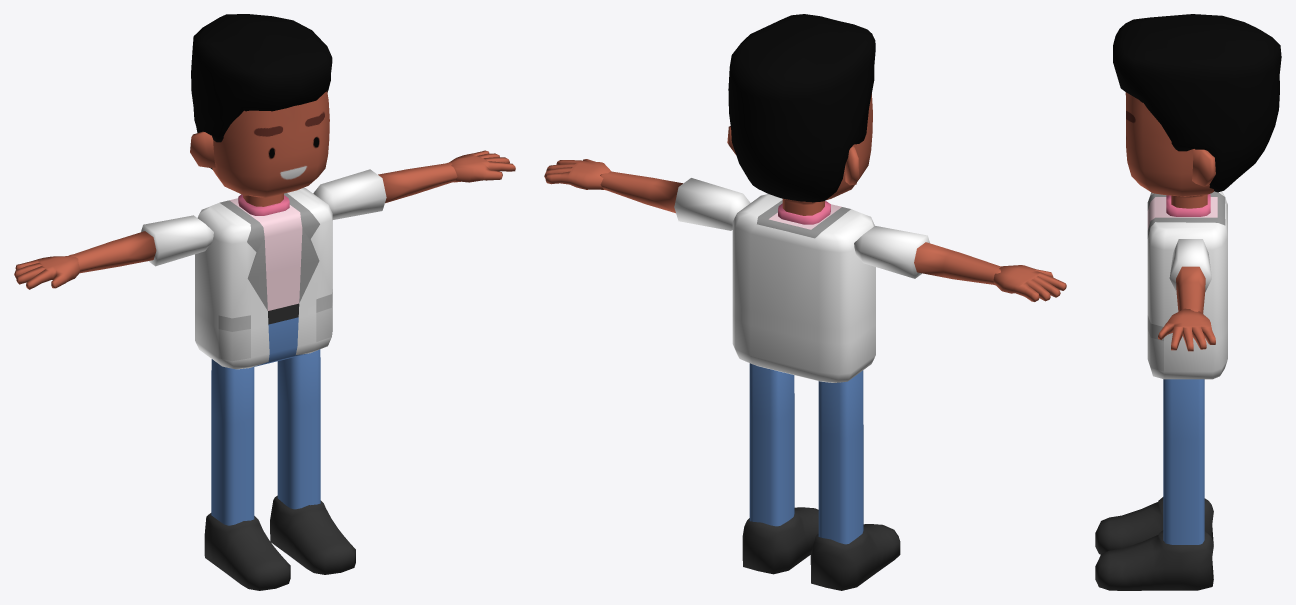
Rendered from NPC_Black02_BlackHair06.gltf.
3 renders of one model, left to right at view 1: azimuth 30°, elevation 25°; view 2: azimuth 150°, elevation 25°; view 3: azimuth 270°, elevation 25°, orthographic. The views are drawn at different scales.
Visible parts, largest first — view 1: NPC_Corpo_Black2_BlackHair.006; view 2: NPC_Corpo_Black2_BlackHair.006; view 3: NPC_Corpo_Black2_BlackHair.006.
Part boxes in pixels (x1,y1,x2,y2): NPC_Corpo_Black2_BlackHair.006: (14,14,515,590); NPC_Corpo_Black2_BlackHair.006: (544,14,1066,590); NPC_Corpo_Black2_BlackHair.006: (1095,14,1281,590).
Size of the model in its own units: 2.31 by 2.31 by 0.7282.
1 material, 1 textured.
